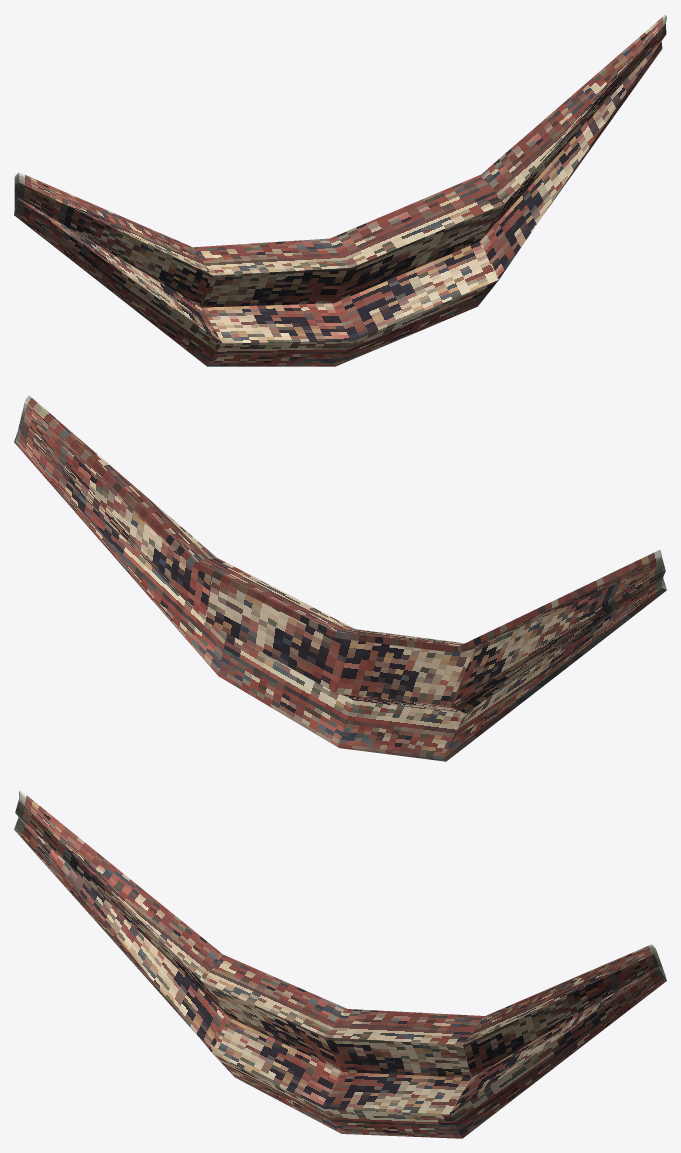
Rendered from Mesh_BG_tenture_3.fbx.
The picture shows the model from 3 angles, top to bottom: view 1: azimuth 30°, elevation 25°; view 2: azimuth 150°, elevation 25°; view 3: azimuth 330°, elevation 25°; orthographic projection. The views are drawn at different scales.
Visible parts, largest first — view 1: Mesh_BG_tenture_3; view 2: Mesh_BG_tenture_3; view 3: Mesh_BG_tenture_3.
Part boxes in pixels (bbox=[...]): Mesh_BG_tenture_3: bbox=[14, 14, 666, 366]; Mesh_BG_tenture_3: bbox=[14, 395, 666, 761]; Mesh_BG_tenture_3: bbox=[14, 790, 666, 1138].
Bounding box in the file's own units: 404 × 163 × 40.58.
